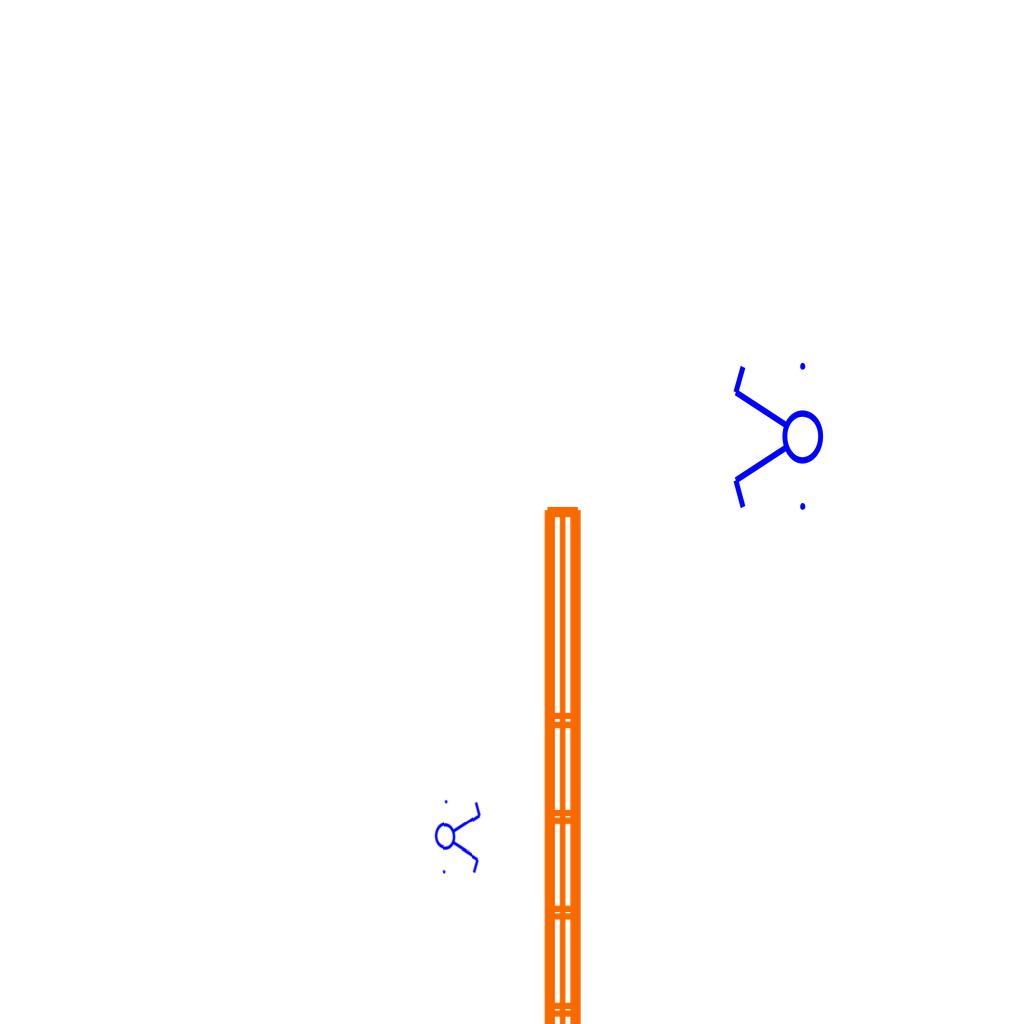Ambulanz_Pendelleuchte_LED: (532, 496, 644, 1024)
Serienschalter: (729, 354, 825, 522), (432, 793, 484, 879)
